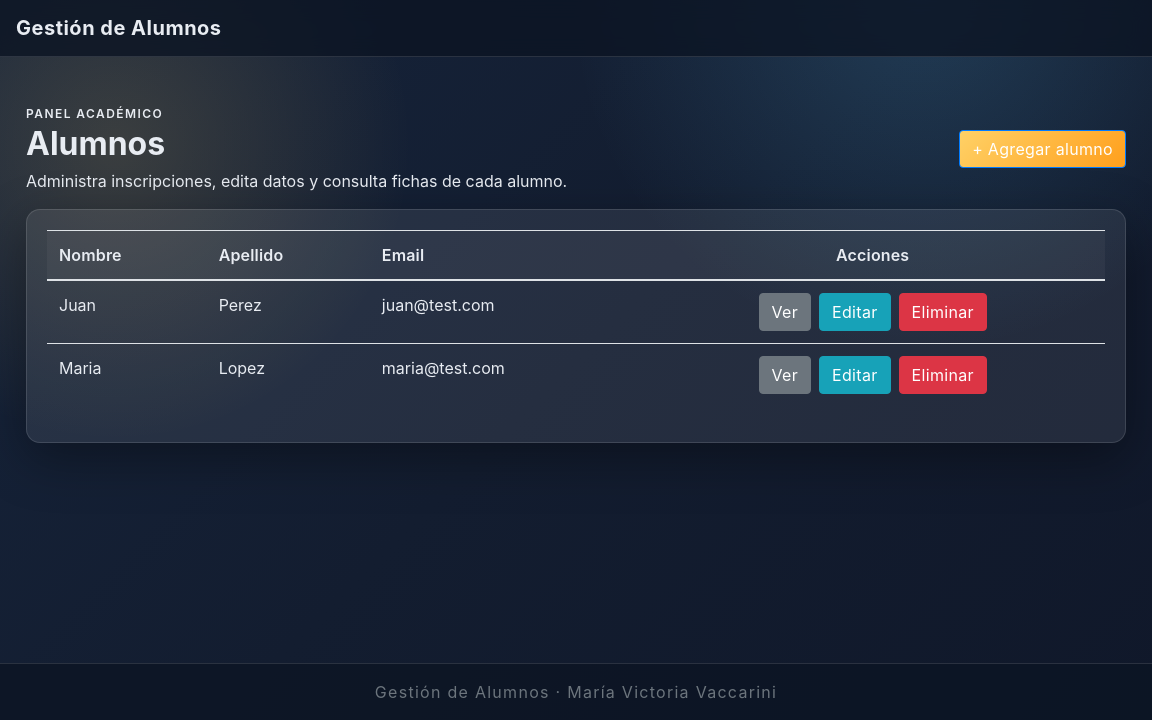
Test: Crear alumno › crea un alumno nuevo
Step 1. Click the button "+ Agregar alumno" → (1043, 149), box [959, 130, 1126, 168]
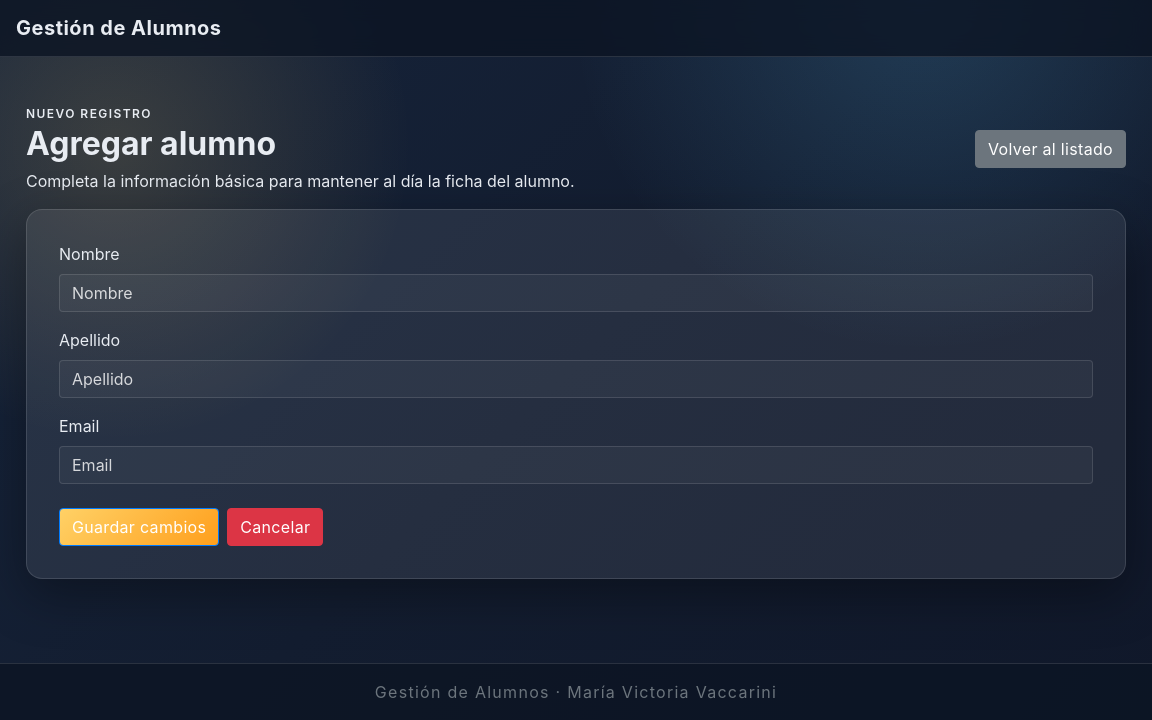
Step 2. Type "Perla" into the field named "firstName" → (576, 293), box [59, 274, 1093, 312]
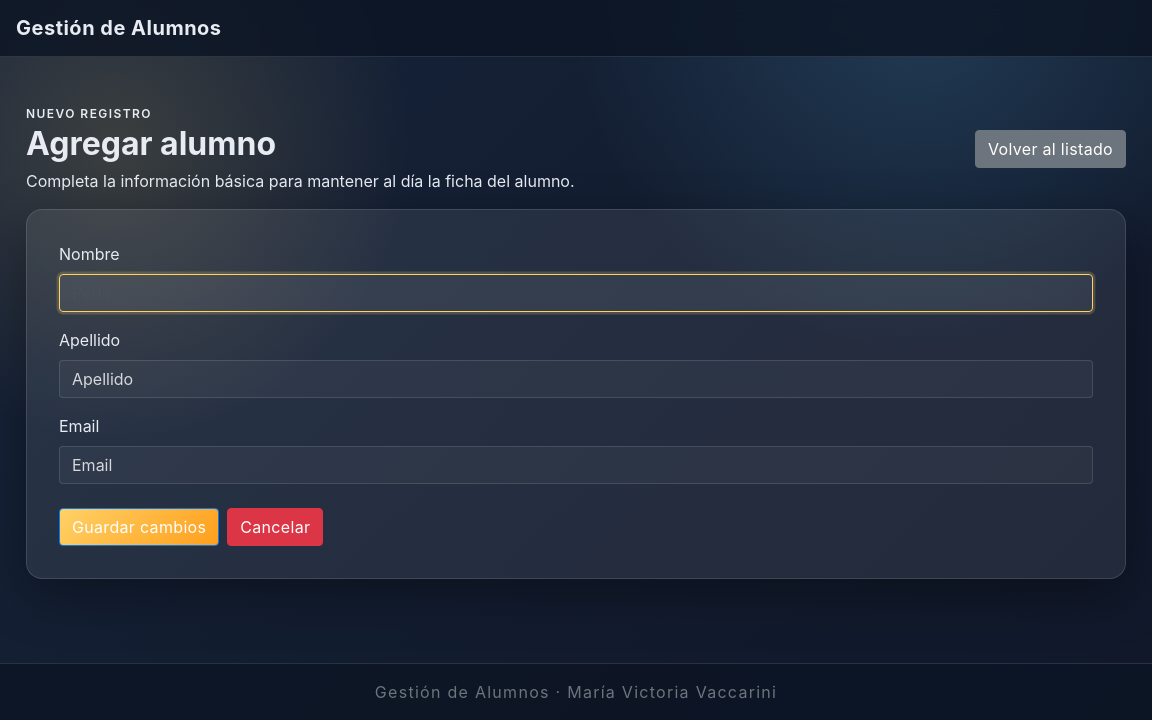
Step 3. Type "Herrera" into the field named "lastName" → (576, 379), box [59, 360, 1093, 398]
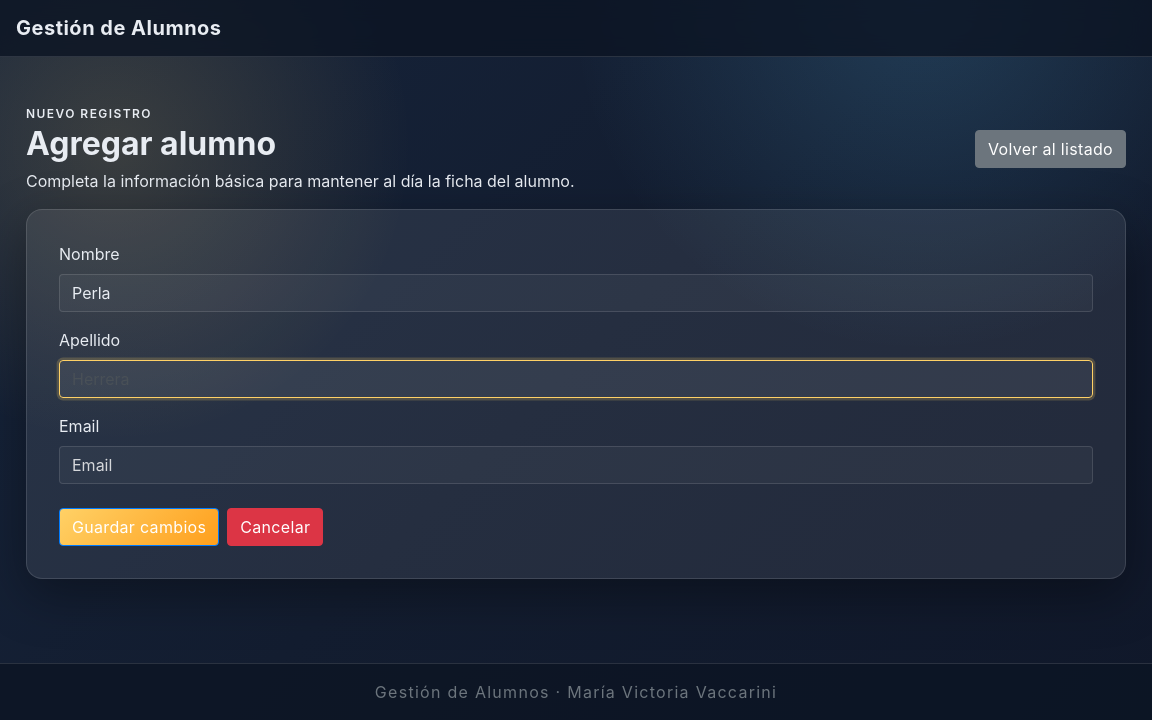
Step 4. Type "perla@test.com" into the field named "emailId" → (576, 465), box [59, 446, 1093, 484]
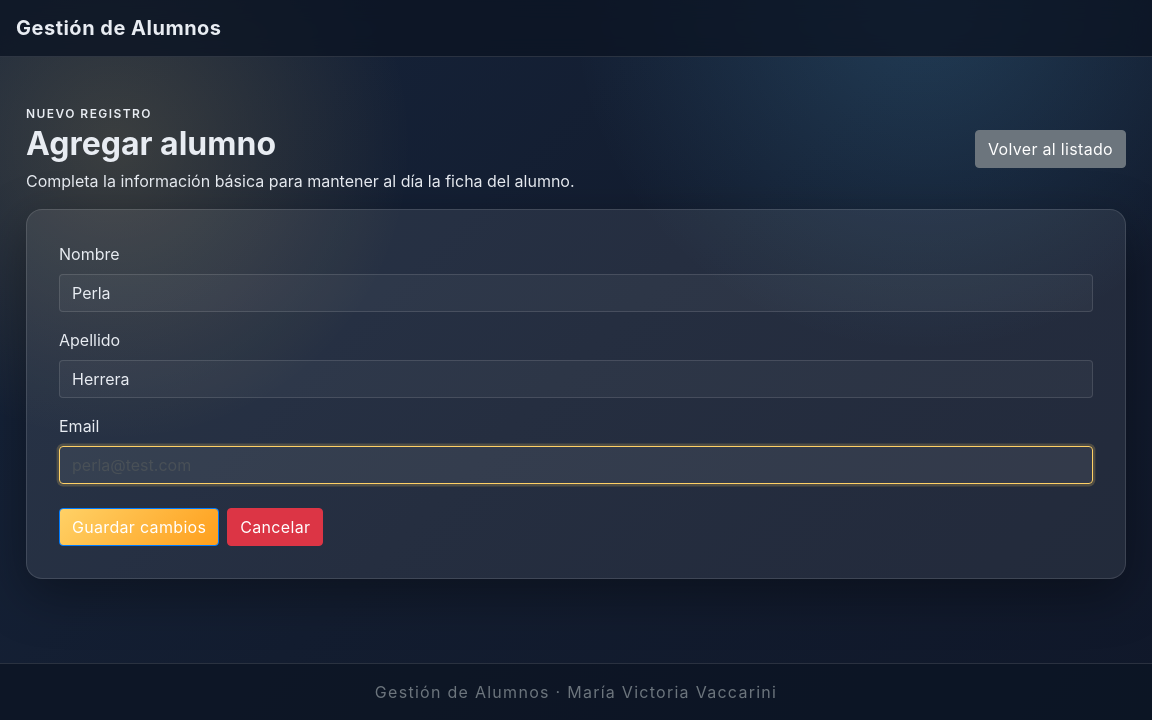
Step 5. Click the button "Guardar cambios" → (139, 527), box [59, 508, 219, 546]
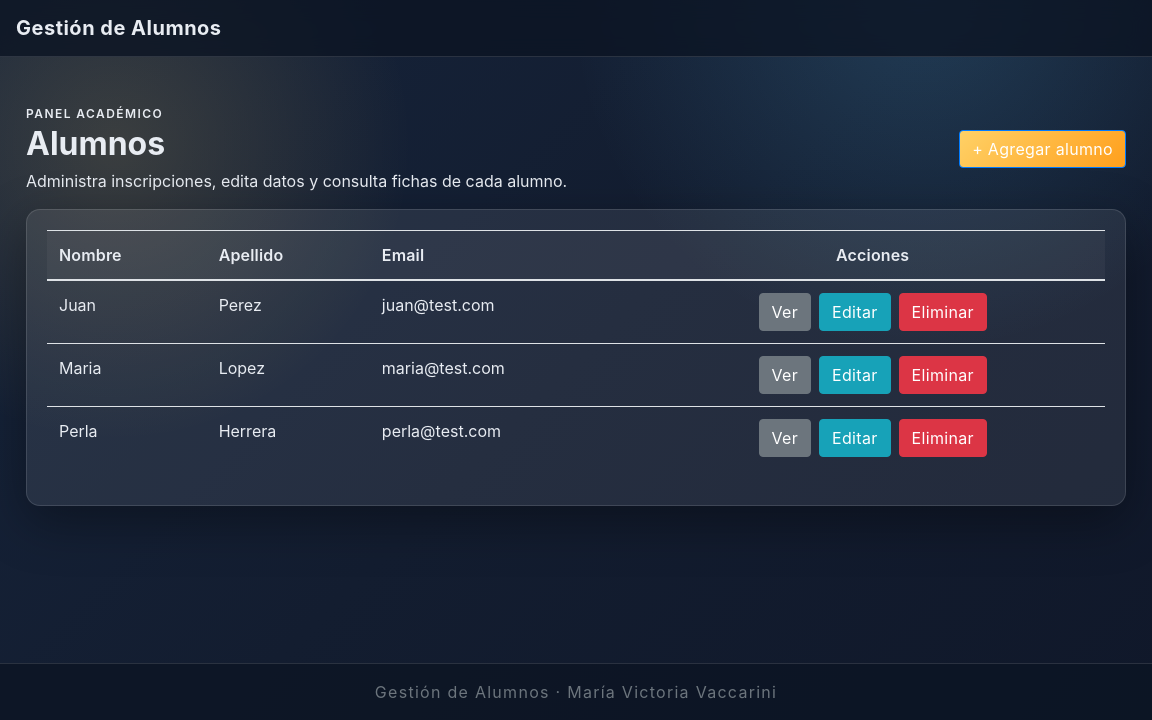
Check: the text "Perla" is shown, box [47, 406, 207, 469]
Check: the text "Herrera" is shown, box [207, 406, 370, 469]
